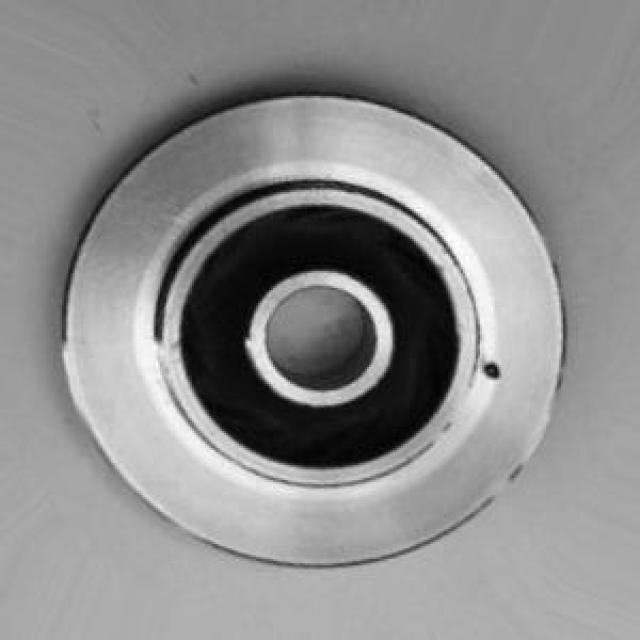Defect: (476, 353, 507, 385)
